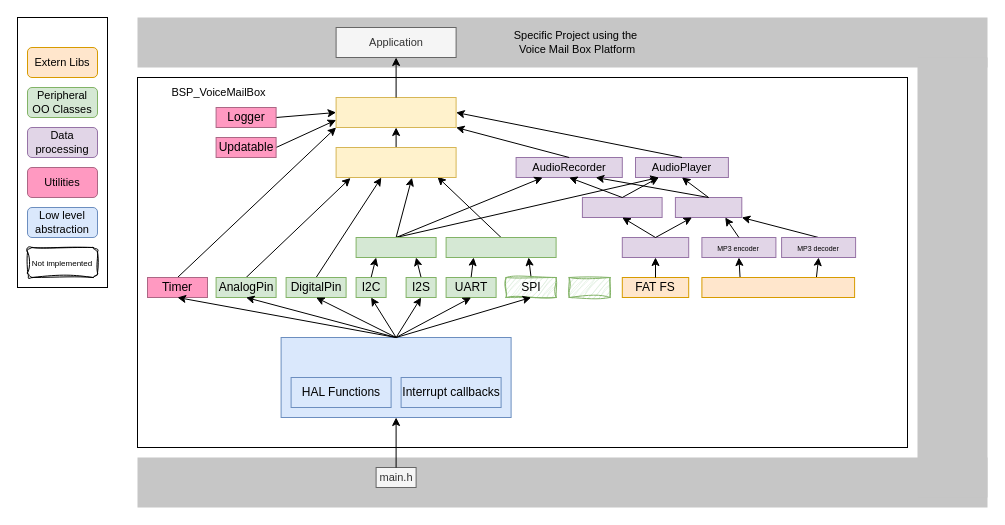
This 1005x525 diagram has some shape labels left out. The shapes that lost their labels are listed below. From the top down, each one's box as (x1, y1, x2, y2) in pixels, then its label:
(335, 96, 456, 128): BSP_VoiceMailBox.h Application interface
(16, 16, 108, 288): Legend
(335, 146, 456, 178): Platform grouping peripheral instances
(581, 196, 662, 218): WAV File
(674, 196, 742, 218): MP3 File
(355, 236, 436, 258): Audio Codec
(445, 236, 556, 258): ATCommandClient
(621, 236, 689, 258): File
(568, 276, 610, 298): NFC
(701, 276, 855, 298): SpiritDSP_MP3
(280, 336, 511, 418): HAL Abstraction
